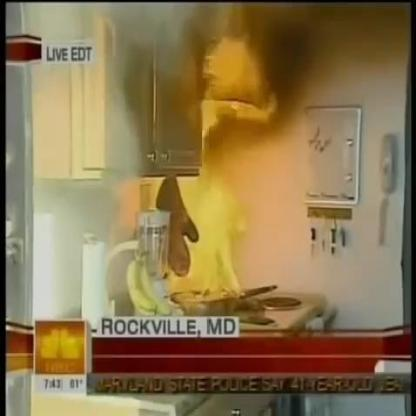fire: (164, 139, 252, 308)
